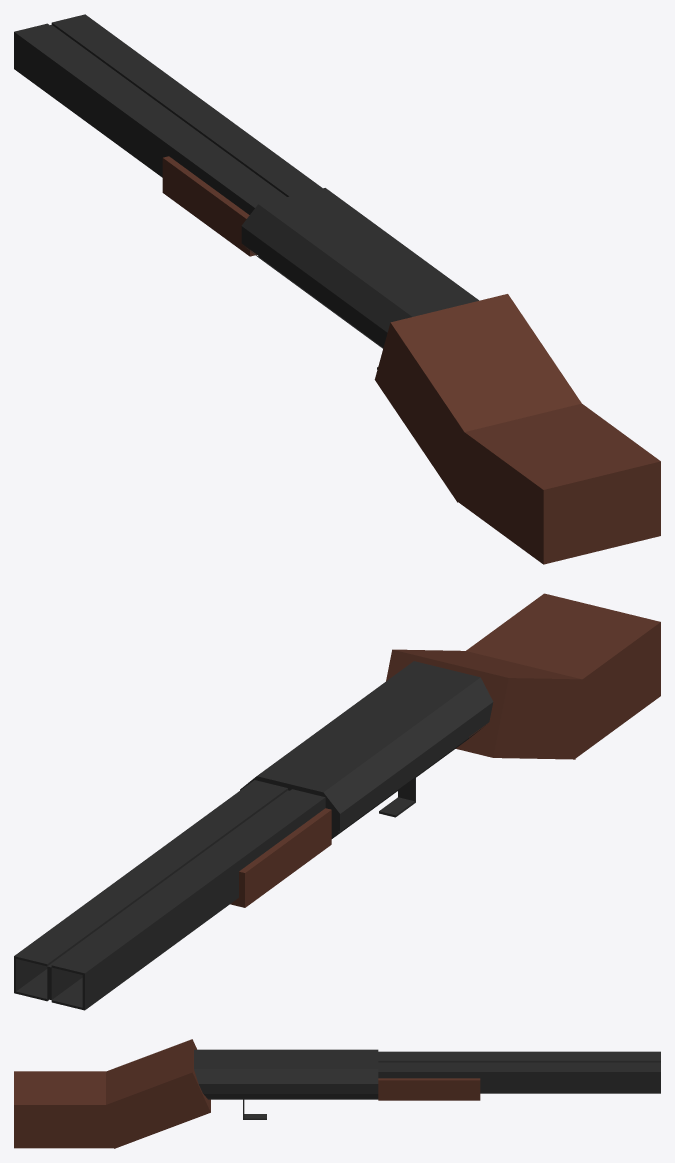
File: shotgun.glb
3 renders of one model, top to bottom at view 1: azimuth 30°, elevation 25°; view 2: azimuth 150°, elevation 25°; view 3: azimuth 270°, elevation 25°, orthographic. The views are drawn at different scales.
Visible parts, largest first — view 1: Object_3; view 2: Object_3; view 3: Object_3.
Boxes of the visible parts, left/top/right/bottom form: Object_3: left=14, top=14, right=660, bottom=564; Object_3: left=14, top=593, right=660, bottom=1010; Object_3: left=14, top=1039, right=660, bottom=1148.
Bounding box in the file's own units: 0.1424 × 0.1518 × 1.16.
1 material, 1 textured.
